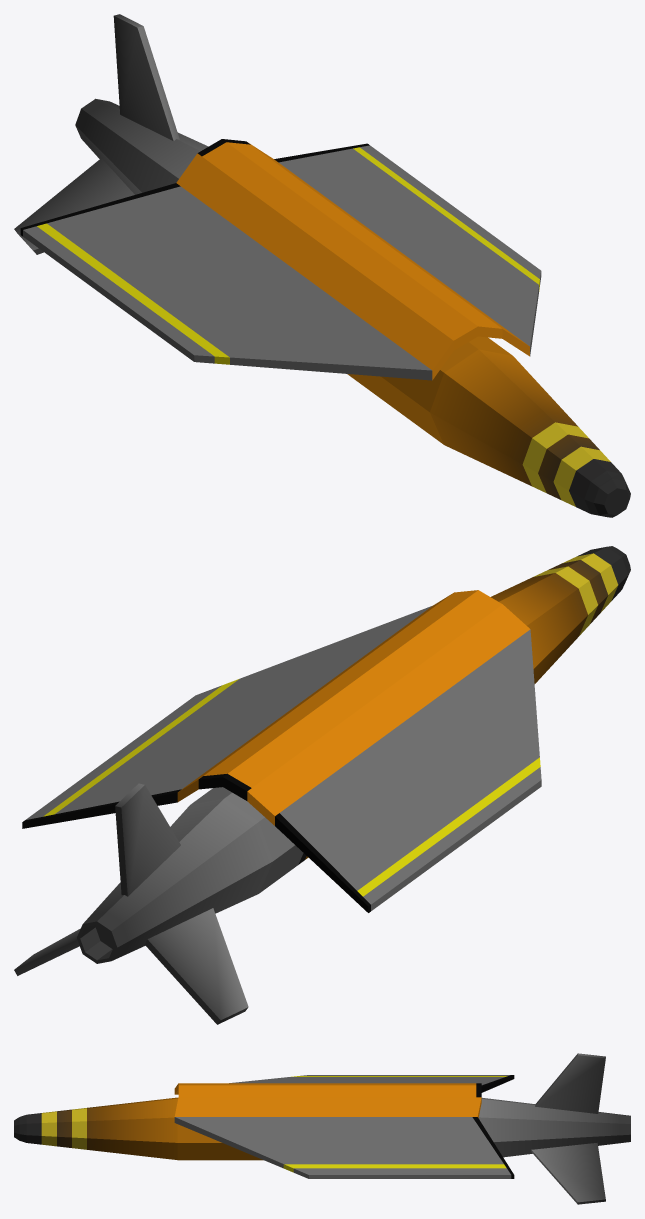
File: EnemyCharge.fbx
3 views of the same model, one above another, from view 1: azimuth 30°, elevation 25°; view 2: azimuth 150°, elevation 25°; view 3: azimuth 270°, elevation 25° (orthographic). The views are drawn at different scales.
Parts seen in each view (by area): view 1: EnemyCharge; view 2: EnemyCharge; view 3: EnemyCharge.
Boxes of the visible parts, x1,y1,x2,y2 form: EnemyCharge: (14, 14, 630, 517); EnemyCharge: (14, 546, 630, 1024); EnemyCharge: (14, 1053, 630, 1204).
Bounding box in the file's own units: 71.05 × 39.69 × 185.
